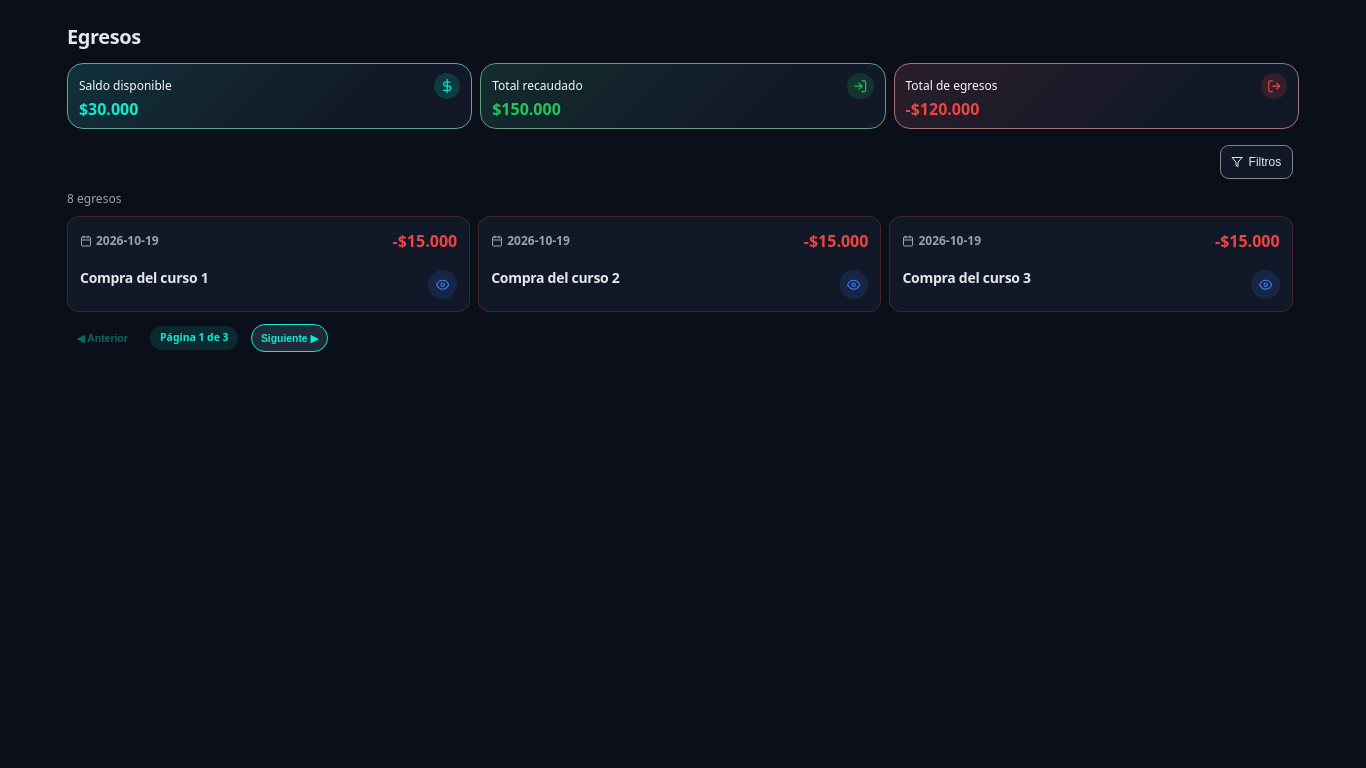
ExpensesPage › lets regular users read details without registration or upload controls
The width and height of the screenshot is (1366, 768).
Step 1. Click the button named "Ver detalle de Compra del curso 1" → [443, 285], box [428,270,457,299]
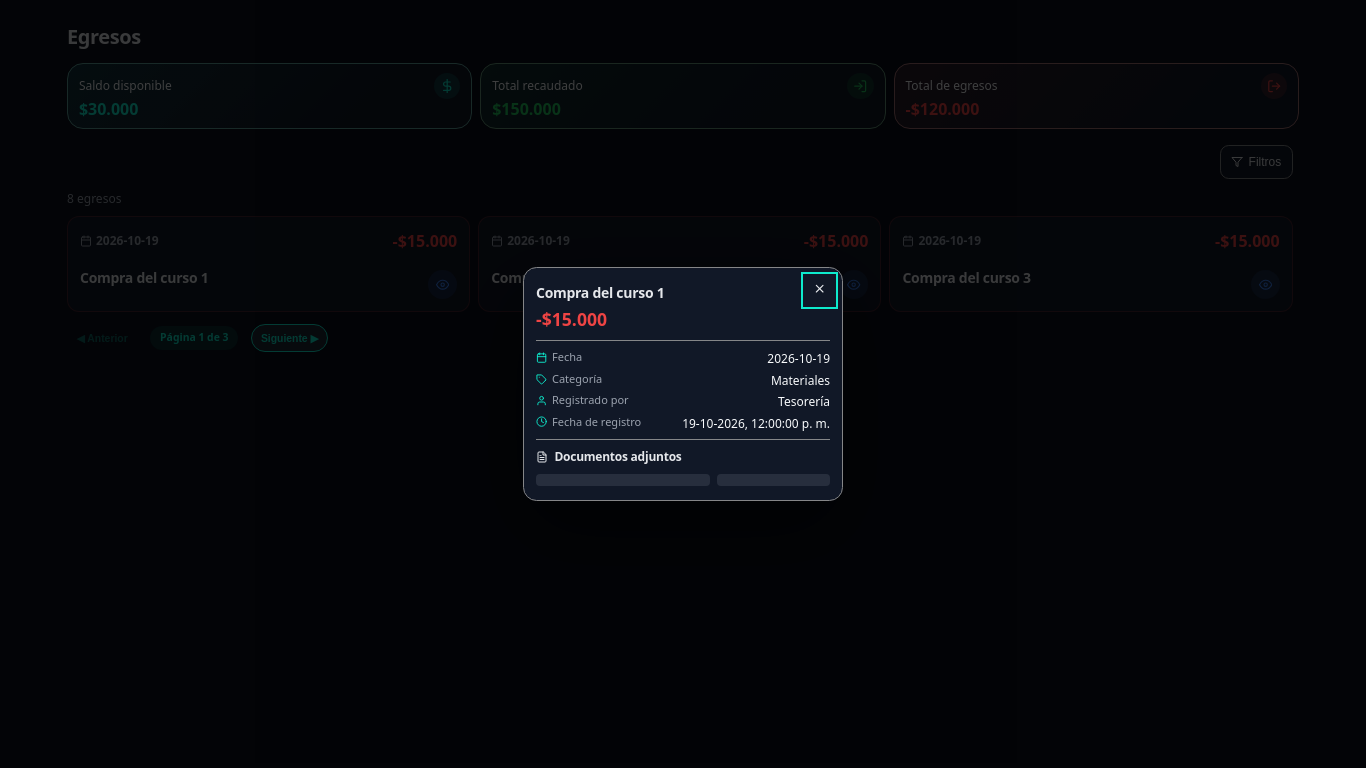
Step 2. Press Escape in the dialog, box [523,267,843,501]
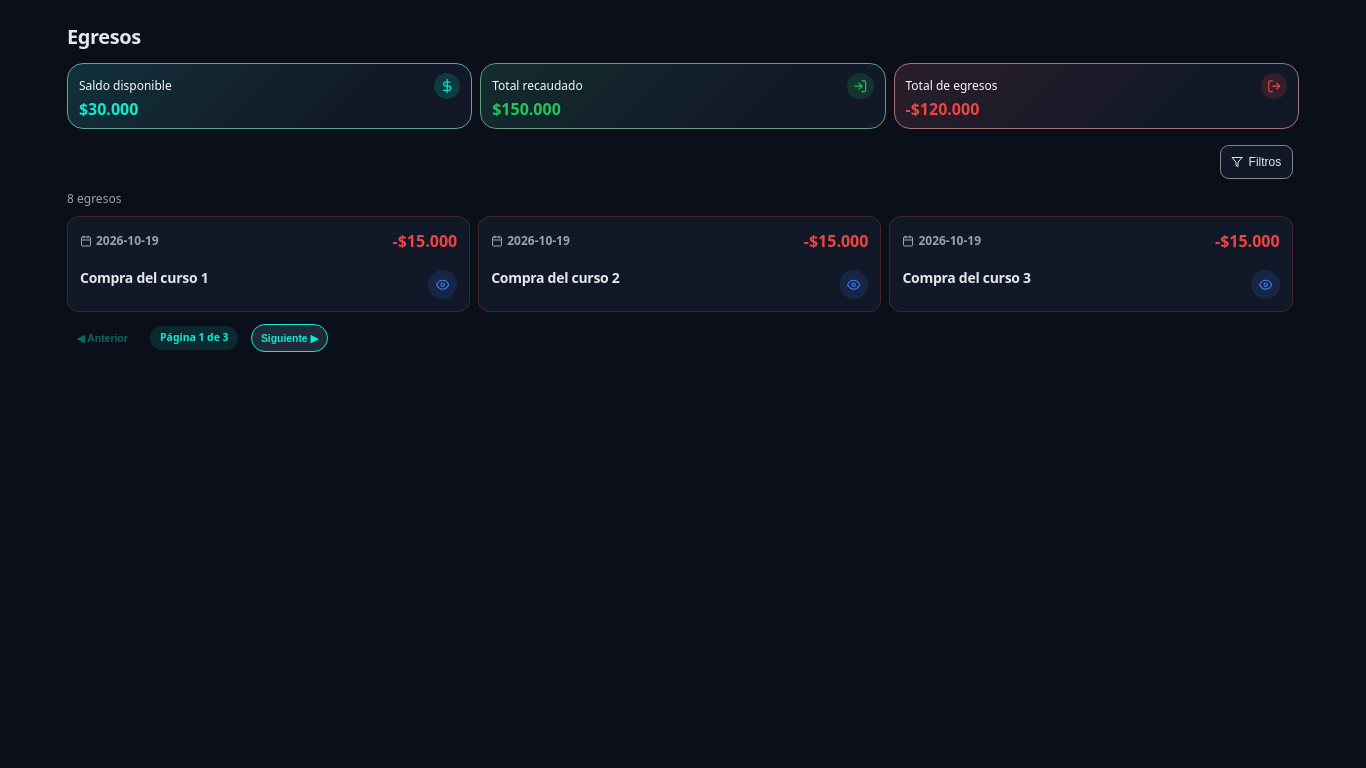
Check: the dialog is gone
